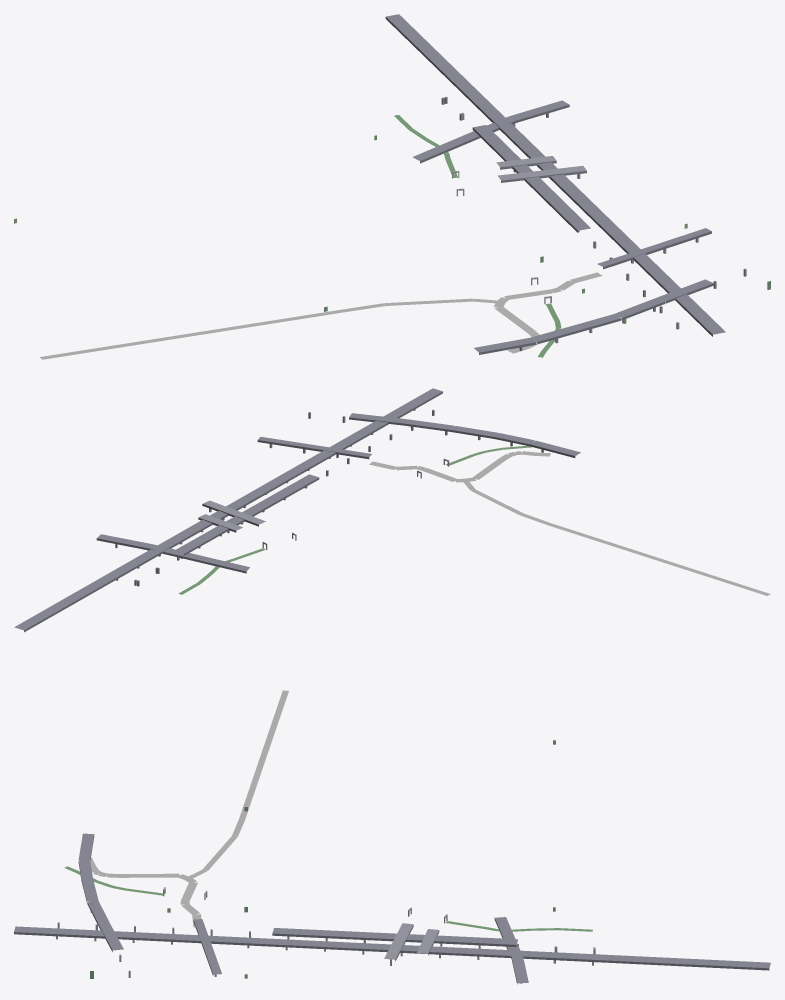
3 views of the same model, one above another, from view 1: azimuth 30°, elevation 25°; view 2: azimuth 150°, elevation 25°; view 3: azimuth 270°, elevation 25° (orthographic). The views are drawn at different scales.
Size of the model in its own units: 545 by 10.68 by 589.
